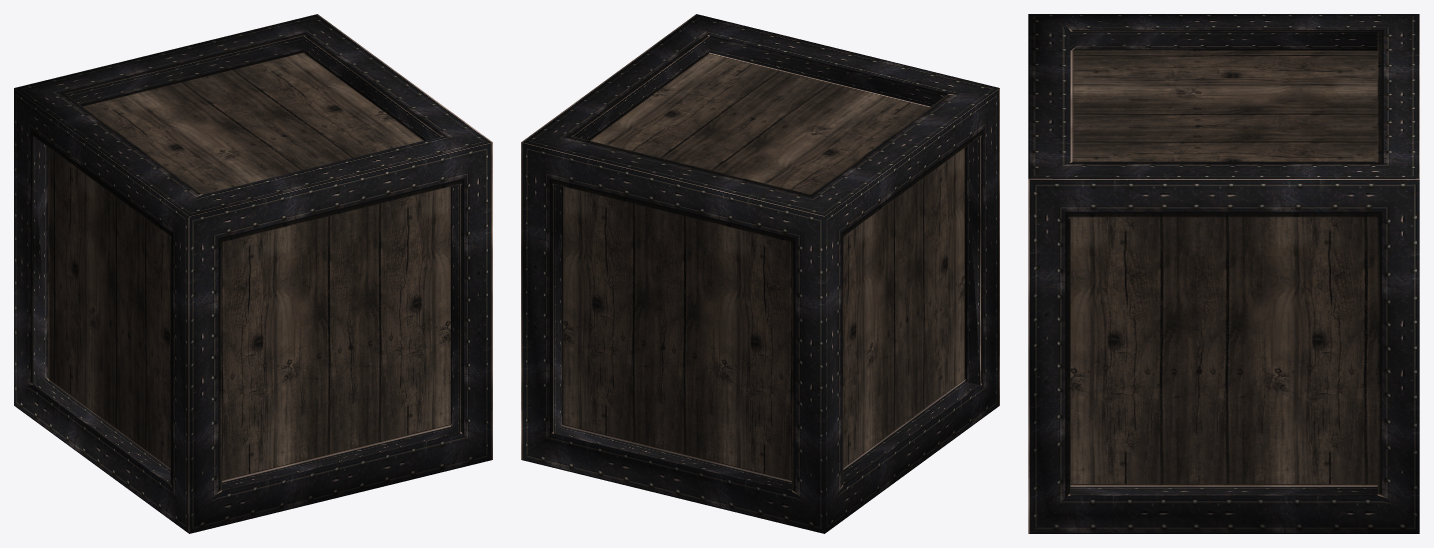
File: CusomableBox.FBX
The picture shows the model from 3 angles, left to right: view 1: azimuth 30°, elevation 25°; view 2: azimuth 150°, elevation 25°; view 3: azimuth 270°, elevation 25°; orthographic projection. The views are drawn at different scales.
Parts seen in each view (by area): view 1: Item_Drop_Box_SM; view 2: Item_Drop_Box_SM; view 3: Item_Drop_Box_SM.
Boxes of the visible parts, bbox=[...] form: Item_Drop_Box_SM: bbox=[14, 14, 492, 533]; Item_Drop_Box_SM: bbox=[521, 14, 999, 533]; Item_Drop_Box_SM: bbox=[1028, 14, 1419, 533].
Bounding box in the file's own units: 18.64 × 18.64 × 18.64.
